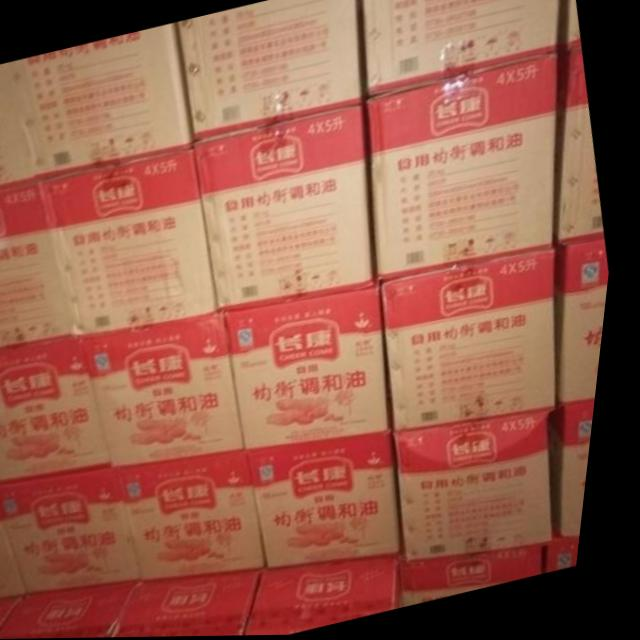box: (369, 54, 560, 280), (198, 105, 381, 308), (46, 150, 227, 334), (391, 251, 566, 432), (232, 287, 399, 451), (21, 23, 195, 176), (177, 0, 365, 141), (87, 312, 253, 466), (405, 409, 565, 559), (259, 432, 415, 568), (361, 0, 560, 97), (7, 466, 154, 595), (130, 451, 278, 579), (0, 335, 120, 484), (0, 177, 85, 349), (260, 558, 412, 636), (125, 572, 273, 638), (560, 52, 609, 248), (564, 241, 615, 405), (415, 547, 555, 606), (10, 581, 151, 639), (0, 59, 43, 185), (565, 404, 604, 538), (0, 486, 38, 596), (560, 532, 592, 573), (562, 0, 581, 52), (6, 598, 28, 632)
